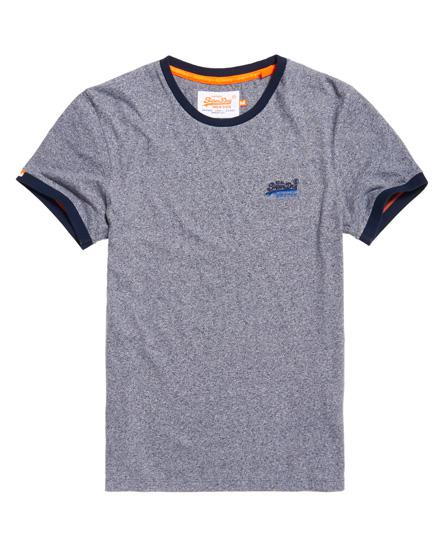teeshirt: (13, 52, 413, 509)
